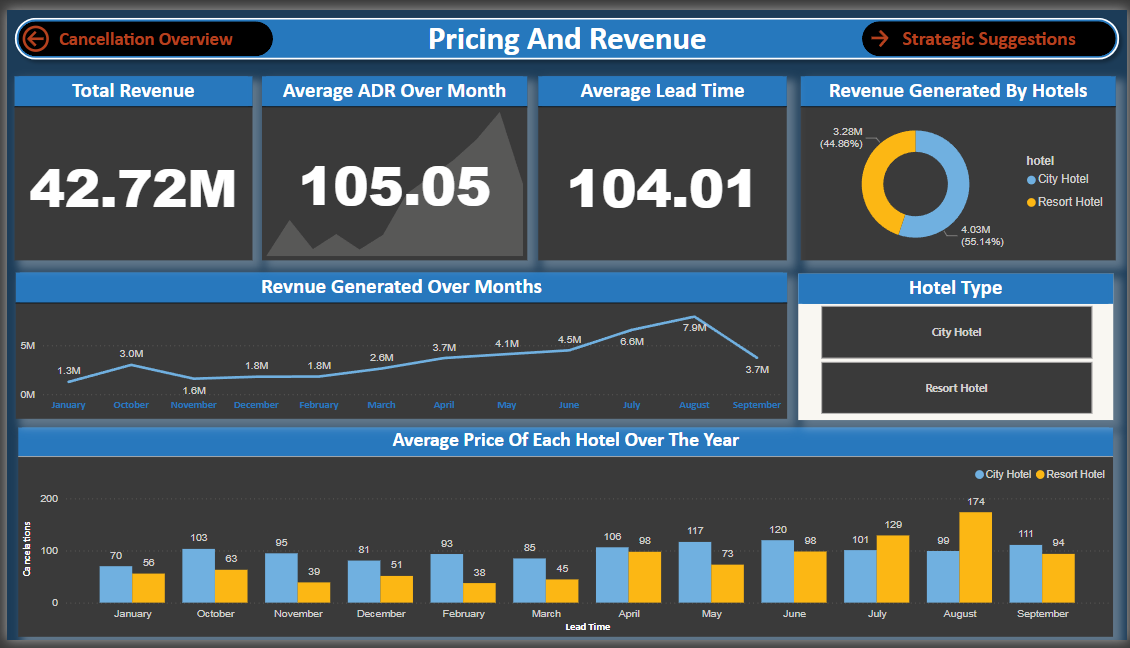

The dashboard page shown, as its layout file describes it:
{"tool":"powerbi","page":{"name":"Pricing Revenue","canvas":[1280,720],"ordinal":1},"visuals":[{"type":"clusteredColumnChart","title":"Average Price Of Each Hotel Over The Year","fields":{"Series":["hotel_booking.hotel"],"Y":["Pricing.Average_ADR"],"Category":["hotel_booking.arrival_date_month"]},"box":[12.6,476.6,1251.3,238.9],"z":0},{"type":"donutChart","title":"Revenue Generated By Hotels","fields":{"Category":["hotel_booking.hotel"],"Y":["Pricing_Revenue.Revenue"]},"box":[906.7,75.5,359.7,210],"z":1000},{"type":"lineChart","title":"Revnue Generated Over Months","fields":{"Category":["hotel_booking.arrival_date_month"],"Y":["Pricing.Total Revenue"]},"box":[10.1,300.6,881.6,167.3],"z":2000},{"type":"shape","title":"Strategic Suggestions Dashboard","box":[0,0,1280,65.7],"z":3000},{"type":"card","title":"Total Revenue","fields":{"Values":["Pricing.Total Revenue"]},"box":[8.8,75.5,271.6,210],"z":4000},{"type":"kpi","title":"Average ADR Over Month","fields":{"Indicator":["Avg(hotel_booking.adr)"],"TrendLine":["hotel_booking.arrival_date_month"]},"box":[291.8,75.5,303.1,210],"z":5000},{"type":"card","title":"Average Lead Time","fields":{"Values":["Avg(hotel_booking.lead_time)"]},"box":[607.4,75.5,284.2,210],"z":6000},{"type":"slicer","title":"Hotel Type","fields":{"Values":["hotel_booking.hotel"]},"box":[904.2,301.8,359.7,167.3],"z":7000},{"type":"actionButton","box":[12.2,13.4,291.2,40.2],"z":8000},{"type":"actionButton","box":[977.1,12.9,290,40],"z":9000}]}

Visuals, with their boxes in screenshot pixels (x1, y1, x2, y2), scaled from the page's 1280x720 canvas onto the 1130x648 screenshot:
"Average Price Of Each Hotel Over The Year" clusteredColumnChart: 11:429:1116:644
"Revenue Generated By Hotels" donutChart: 800:68:1118:257
"Revnue Generated Over Months" lineChart: 9:271:787:421
"Strategic Suggestions Dashboard" shape: 0:0:1129:59
"Total Revenue" card: 8:68:248:257
"Average ADR Over Month" kpi: 258:68:525:257
"Average Lead Time" card: 536:68:787:257
"Hotel Type" slicer: 798:272:1116:422
actionButton: 11:12:268:48
actionButton: 863:12:1119:48
